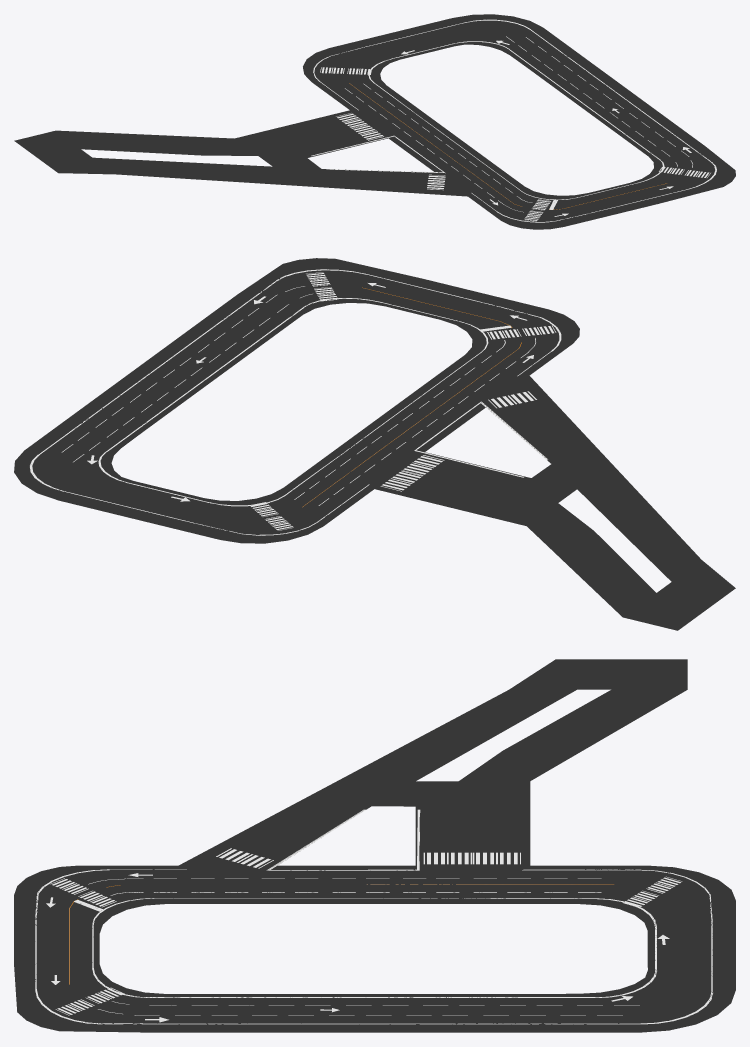
The model's file is Streets.fbx.
3 views of the same model, one above another, from view 1: azimuth 30°, elevation 25°; view 2: azimuth 150°, elevation 25°; view 3: azimuth 270°, elevation 25° (orthographic). The views are drawn at different scales.
Visible parts, largest first — view 1: Plane.004, CityRoadSignTrim; view 2: Plane.004, CityRoadSignTrim; view 3: Plane.004, CityRoadSignTrim.
Boxes of the visible parts, left/top/right/bottom form: Plane.004: left=14, top=14, right=735, bottom=229; CityRoadSignTrim: left=311, top=19, right=716, bottom=222; Plane.004: left=14, top=258, right=735, bottom=630; CityRoadSignTrim: left=30, top=269, right=561, bottom=535; Plane.004: left=14, top=659, right=735, bottom=1032; CityRoadSignTrim: left=35, top=809, right=712, bottom=1024.
Bounding box in the file's own units: 69297 × 17.37 × 56618.
